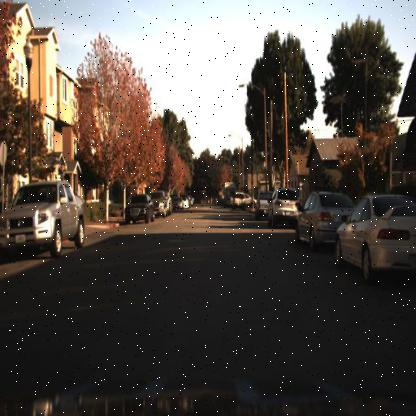car: (334, 192, 415, 284), (0, 180, 86, 261), (294, 186, 338, 254), (261, 185, 299, 226), (122, 189, 155, 229), (251, 186, 268, 220), (154, 186, 168, 218)
